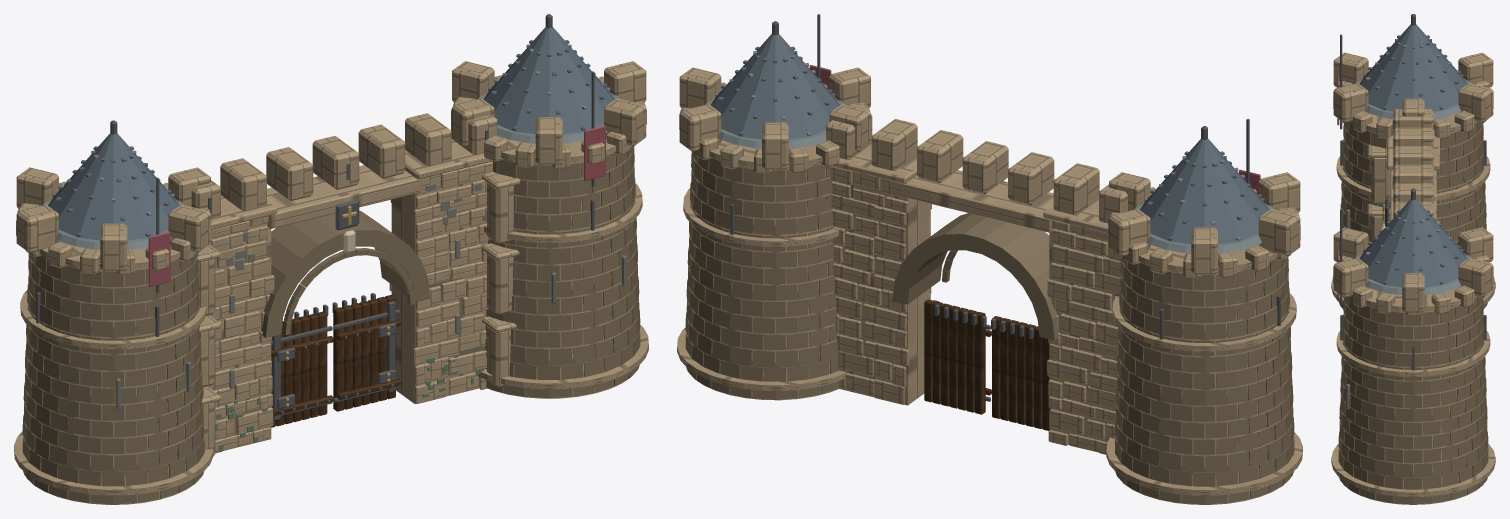
File: valoria_gate_reference.glb
3 renders of one model, left to right at view 1: azimuth 30°, elevation 25°; view 2: azimuth 150°, elevation 25°; view 3: azimuth 270°, elevation 25°, orthographic. The views are drawn at different scales.
Visible parts, largest first — view 1: arched_voussoir, gate_flank_tower_radial_ashlar.007, slate_lap_tile.001, gate_flank_tower_recessed_drum, gate_flank_tower_radial_ashlar.028, gate_flank_tower_radial_ashlar.003, gate_flank_tower_radial_ashlar.001, gate_flank_tower_radial_ashlar, gate_flank_tower_radial_ashlar.005, gate_flank_tower_radial_ashlar.023, gate_flank_tower_radial_ashlar.010, black_iron_strap.001 (+7 smaller); view 2: arched_voussoir, gate_flank_tower_radial_ashlar.007, gate_flank_tower_recessed_drum, gate_flank_tower_radial_ashlar.003, slate_lap_tile.001, gate_flank_tower_radial_ashlar, gate_flank_tower_radial_ashlar.010, gate_flank_tower_radial_ashlar.001, gate_flank_tower_radial_ashlar.005, gate_flank_tower_radial_ashlar.023, gate_flank_tower_radial_ashlar.028, vertical_oak_plank (+4 smaller); view 3: arched_voussoir, slate_lap_tile.001, gate_flank_tower_radial_ashlar.028, gate_flank_tower_radial_ashlar.023, gate_flank_tower_radial_ashlar.003, gate_flank_tower_recessed_drum, gate_flank_tower_radial_ashlar.007, gate_flank_tower_radial_ashlar.005, gate_flank_tower_radial_ashlar.010, gate_flank_tower_radial_ashlar.001, gate_flank_tower_radial_ashlar, slate_lap_tile (+1 smaller).
Part boxes in pixels (bbox=[...]): arched_voussoir: bbox=[14, 61, 648, 495]; gate_flank_tower_radial_ashlar.007: bbox=[22, 159, 639, 492]; slate_lap_tile.001: bbox=[48, 27, 614, 240]; gate_flank_tower_recessed_drum: bbox=[24, 153, 638, 504]; gate_flank_tower_radial_ashlar.028: bbox=[25, 161, 640, 483]; gate_flank_tower_radial_ashlar.003: bbox=[22, 147, 639, 502]; gate_flank_tower_radial_ashlar.001: bbox=[24, 146, 640, 504]; gate_flank_tower_radial_ashlar: bbox=[22, 147, 637, 504]; gate_flank_tower_radial_ashlar.005: bbox=[23, 156, 639, 498]; gate_flank_tower_radial_ashlar.023: bbox=[25, 146, 639, 451]; gate_flank_tower_radial_ashlar.010: bbox=[23, 152, 634, 474]; black_iron_strap.001: bbox=[36, 14, 594, 420]; arched_voussoir: bbox=[677, 67, 1302, 495]; gate_flank_tower_radial_ashlar.007: bbox=[687, 170, 1292, 504]; gate_flank_tower_recessed_drum: bbox=[687, 158, 1292, 504]; gate_flank_tower_radial_ashlar.003: bbox=[685, 161, 1294, 504]; slate_lap_tile.001: bbox=[710, 34, 1268, 243]; gate_flank_tower_radial_ashlar: bbox=[686, 166, 1294, 486]; gate_flank_tower_radial_ashlar.010: bbox=[685, 152, 1279, 498]; gate_flank_tower_radial_ashlar.001: bbox=[686, 151, 1294, 492]; gate_flank_tower_radial_ashlar.005: bbox=[685, 167, 1293, 502]; gate_flank_tower_radial_ashlar.023: bbox=[687, 151, 1292, 486]; gate_flank_tower_radial_ashlar.028: bbox=[686, 164, 1293, 478]; vertical_oak_plank: bbox=[924, 299, 1049, 430]; arched_voussoir: bbox=[1331, 52, 1495, 497]; slate_lap_tile.001: bbox=[1359, 24, 1467, 287]; gate_flank_tower_radial_ashlar.028: bbox=[1338, 132, 1487, 476]; gate_flank_tower_radial_ashlar.023: bbox=[1339, 122, 1488, 504]; gate_flank_tower_radial_ashlar.003: bbox=[1341, 132, 1485, 502]; gate_flank_tower_recessed_drum: bbox=[1341, 128, 1485, 504]; gate_flank_tower_radial_ashlar.007: bbox=[1339, 123, 1488, 494]; gate_flank_tower_radial_ashlar.005: bbox=[1338, 130, 1487, 489]; gate_flank_tower_radial_ashlar.010: bbox=[1338, 122, 1487, 482]; gate_flank_tower_radial_ashlar.001: bbox=[1340, 122, 1487, 502]; gate_flank_tower_radial_ashlar: bbox=[1339, 143, 1487, 504]; slate_lap_tile: bbox=[1355, 45, 1471, 294].
Size of the model in its own units: 18.11 by 9.68 by 5.06.
Materials: 22 (13 with a texture image).
